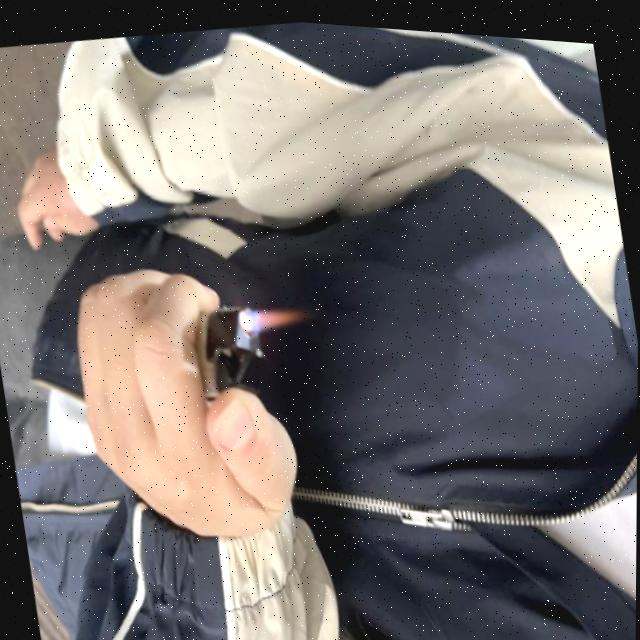Fire: (235, 291, 305, 335)
